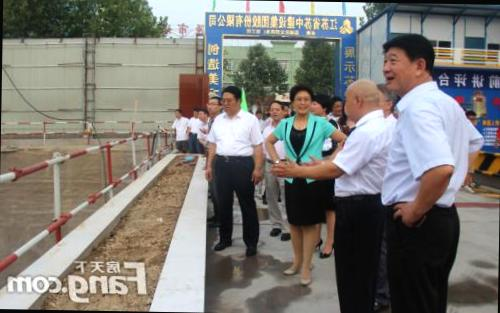no_helmet: (376, 32, 434, 91), (344, 72, 380, 122), (288, 82, 318, 116), (220, 84, 243, 116), (308, 95, 330, 118), (266, 96, 285, 120), (328, 96, 345, 119), (206, 95, 221, 118), (196, 105, 207, 123)
